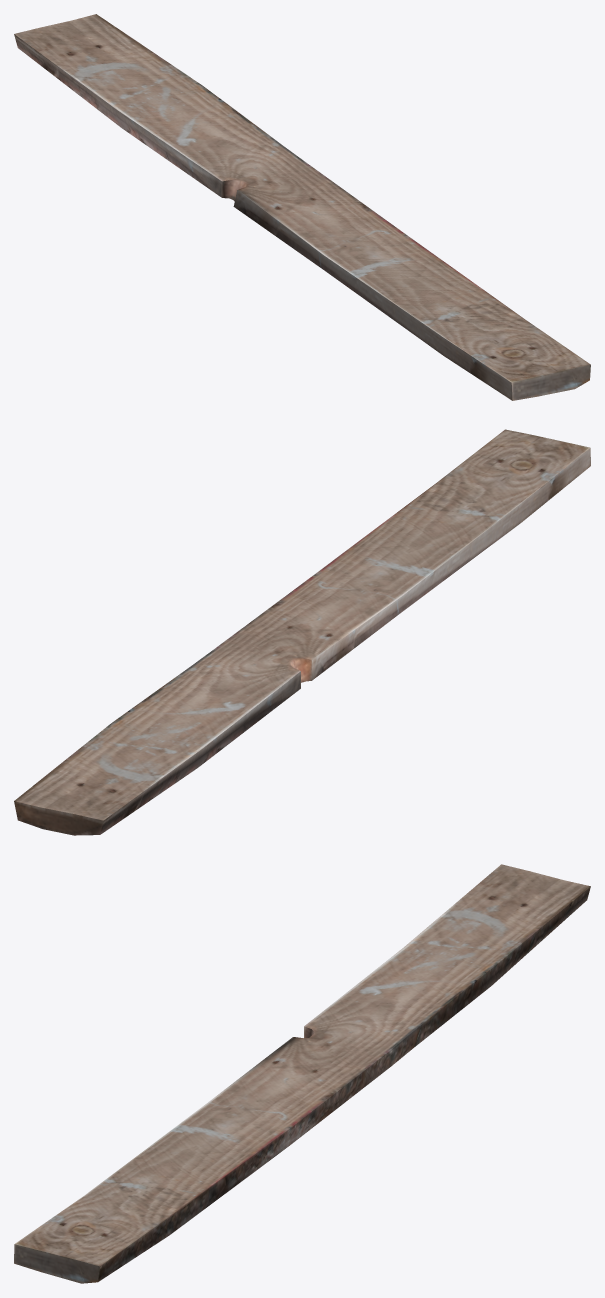
Rendered from sm_WoodPallet_01_10.fbx.
The picture shows the model from 3 angles, top to bottom: view 1: azimuth 30°, elevation 25°; view 2: azimuth 150°, elevation 25°; view 3: azimuth 330°, elevation 25°; orthographic projection. The views are drawn at different scales.
Visible parts, largest first — view 1: sm_WoodPallet_01_10_LOD0; view 2: sm_WoodPallet_01_10_LOD0; view 3: sm_WoodPallet_01_10_LOD0.
Boxes of the visible parts, x1,y1,x2,y2 form: sm_WoodPallet_01_10_LOD0: (14, 14, 590, 400); sm_WoodPallet_01_10_LOD0: (14, 429, 590, 835); sm_WoodPallet_01_10_LOD0: (14, 864, 590, 1283).
Size of the model in its own units: 119 by 14.17 by 3.85.
